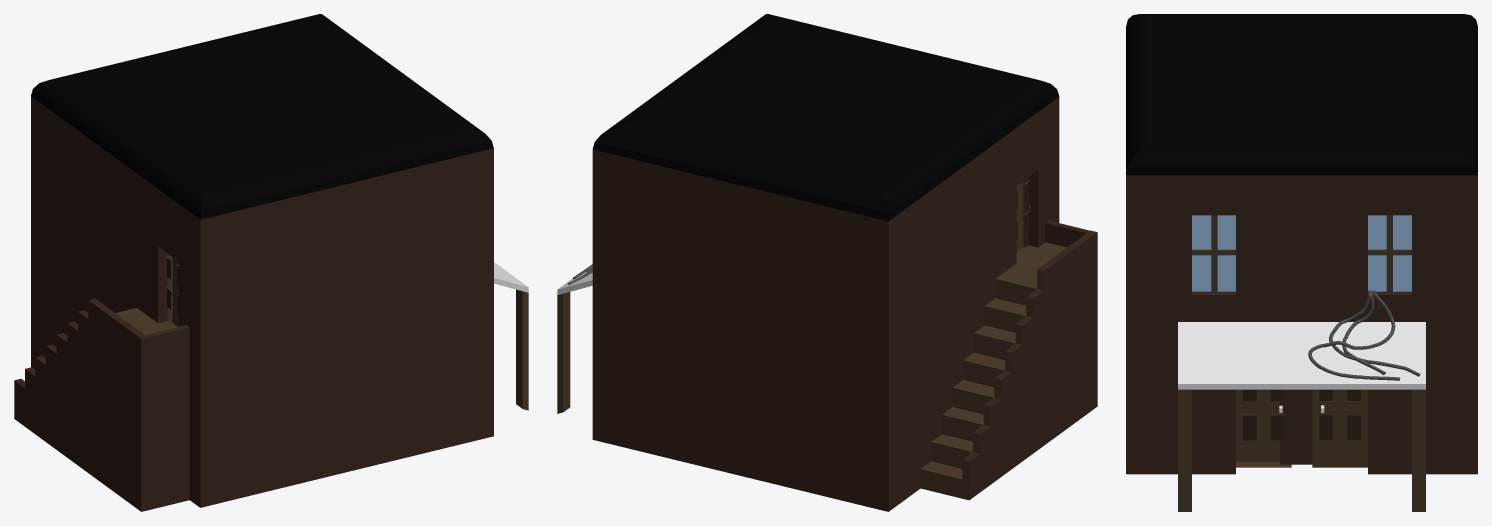
The model's file is RealBuilding2.fbx.
3 renders of one model, left to right at view 1: azimuth 30°, elevation 25°; view 2: azimuth 150°, elevation 25°; view 3: azimuth 270°, elevation 25°, orthographic. The views are drawn at different scales.
Parts seen in each view (by area): view 1: Building; view 2: Building; view 3: Building.
Part boxes in pixels (left/top/right/bottom): Building: left=14, top=14, right=528, bottom=511; Building: left=557, top=14, right=1097, bottom=511; Building: left=1126, top=14, right=1477, bottom=511.
Bounding box in the file's own units: 1619 × 1211 × 1183.
